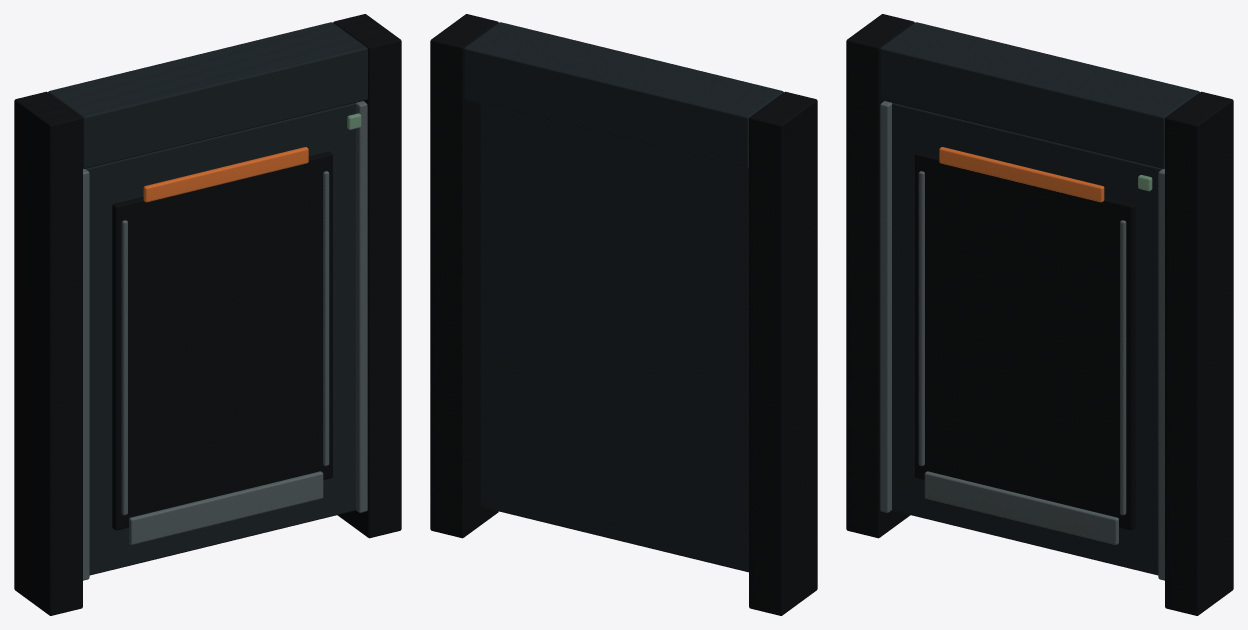
File: SlidingBulkhead.glb
3 views of the same model, side by side, from view 1: azimuth 30°, elevation 25°; view 2: azimuth 150°, elevation 25°; view 3: azimuth 330°, elevation 25° (orthographic).
Parts seen in each view (by area): view 1: SlidingBulkhead_Mesh; view 2: SlidingBulkhead_Mesh; view 3: SlidingBulkhead_Mesh.
Boxes of the visible parts, <box> form: SlidingBulkhead_Mesh: <box>14,14,401,615</box>; SlidingBulkhead_Mesh: <box>430,14,817,615</box>; SlidingBulkhead_Mesh: <box>846,14,1233,615</box>.
Bounding box in the file's own units: 1.68 × 2.24 × 0.3325.
5 materials, 5 textured.
